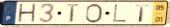3: (38, 2, 56, 25)
H: (17, 3, 38, 24)
L: (112, 4, 129, 23)
O: (84, 3, 103, 24)
T: (66, 3, 82, 24), (135, 4, 151, 23)
